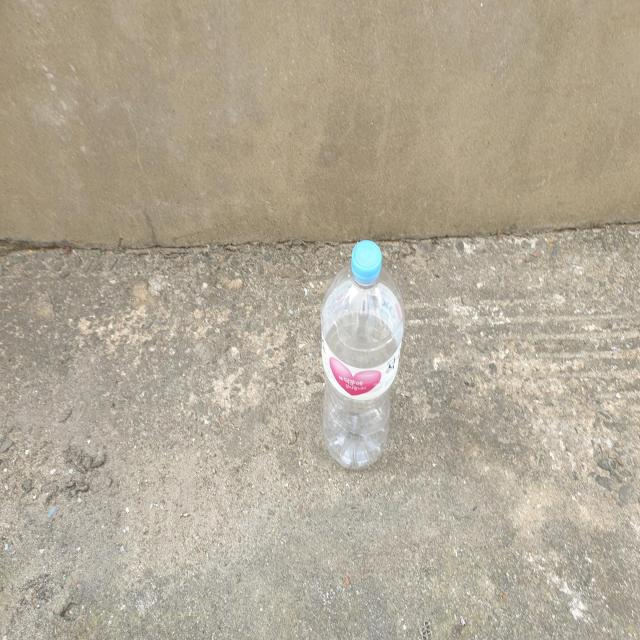plastic: (322, 240, 405, 470)
